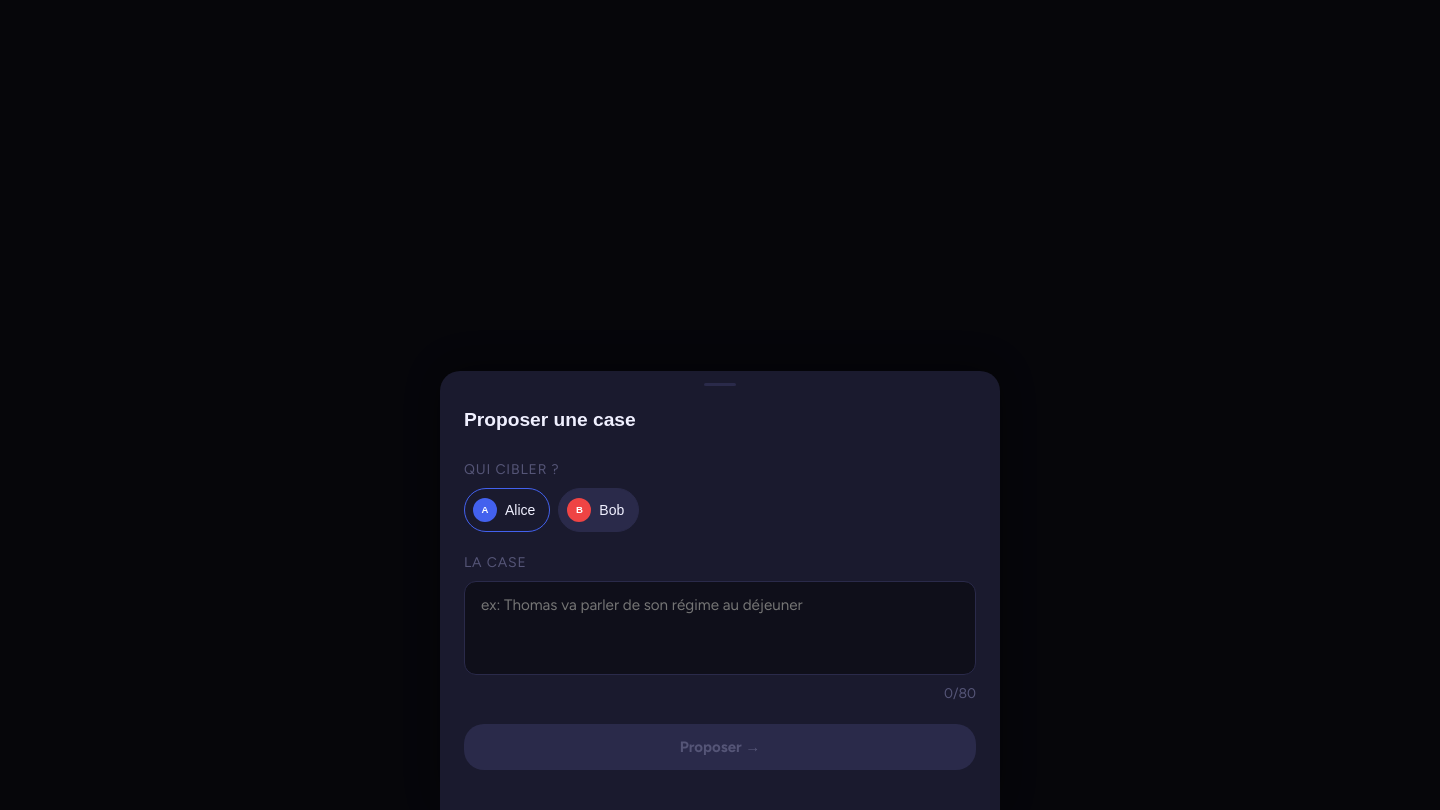
Test: ProposeCell — submission › shows duplicate error when proposal already exists
Expected: the text "Alice" is shown, x1=505 y1=502 x2=535 y2=518
Type "Va faire du sport" into the text box with placeholder "ex: Thomas va parler de son régime au déjeuner".
click(720, 628); type("Va faire du sport")  # box x1=464 y1=581 x2=976 y2=675
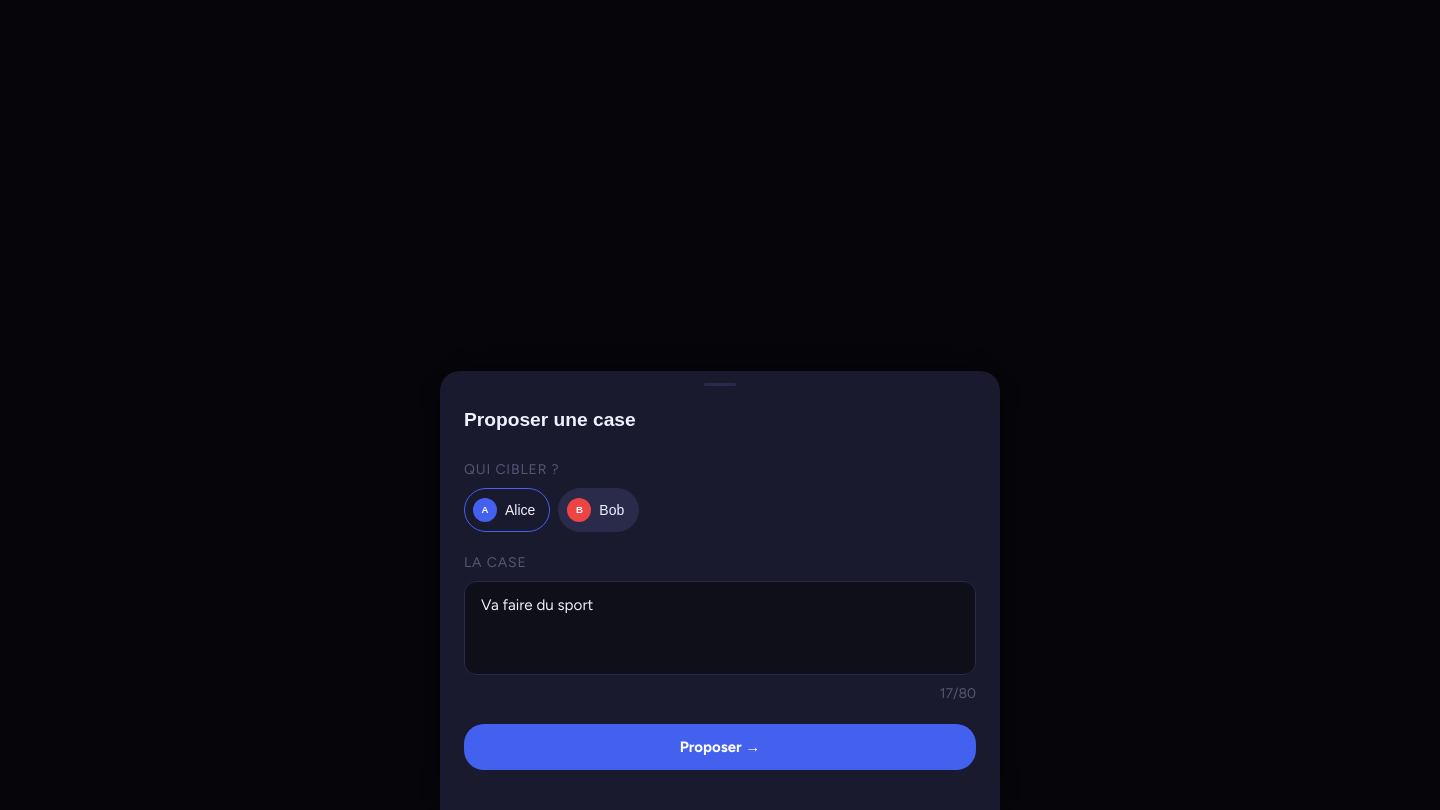
Click the button "Proposer →".
click(720, 747)  # box x1=464 y1=724 x2=976 y2=770
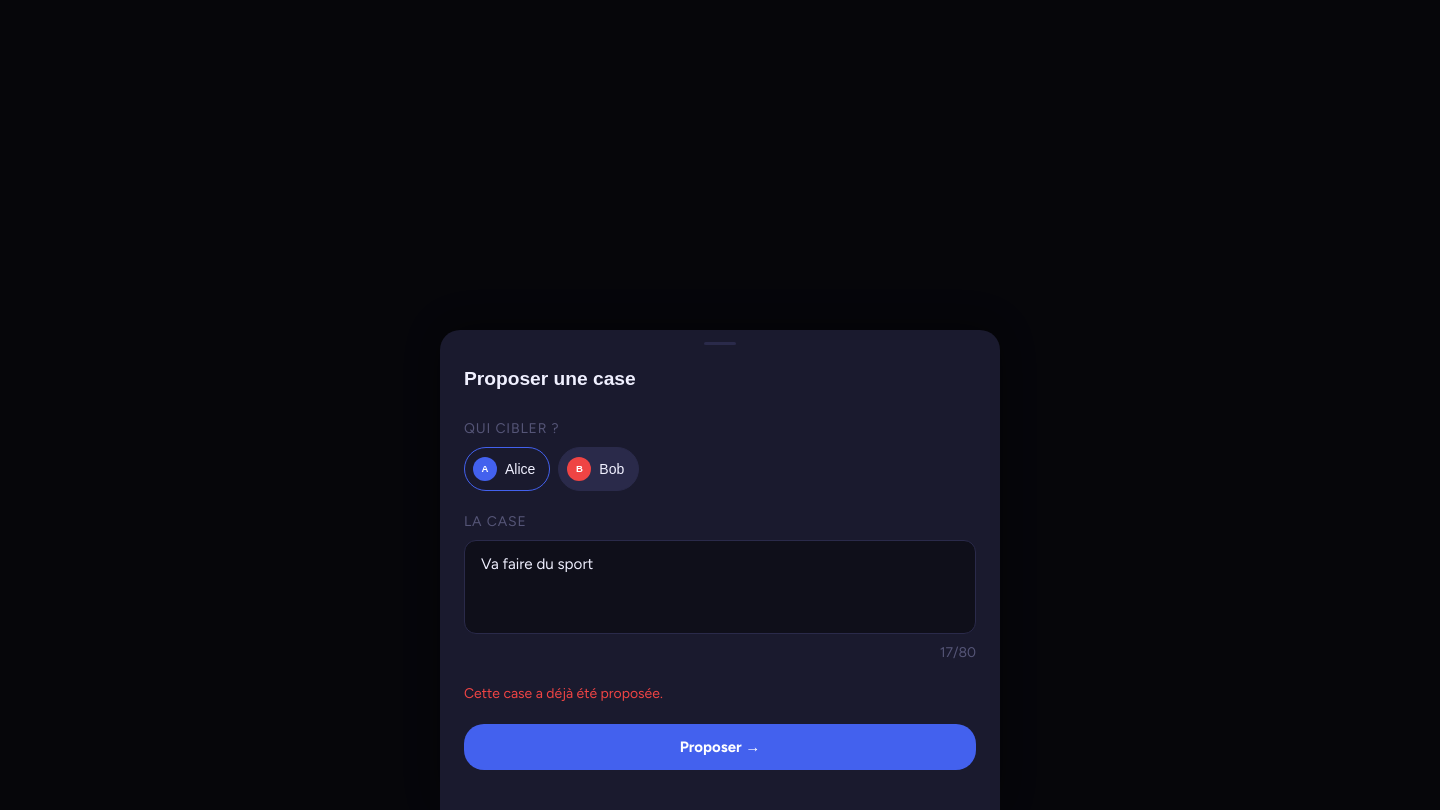
Expected: the text "Cette case a déjà été proposée." is shown, x1=464 y1=685 x2=663 y2=702
